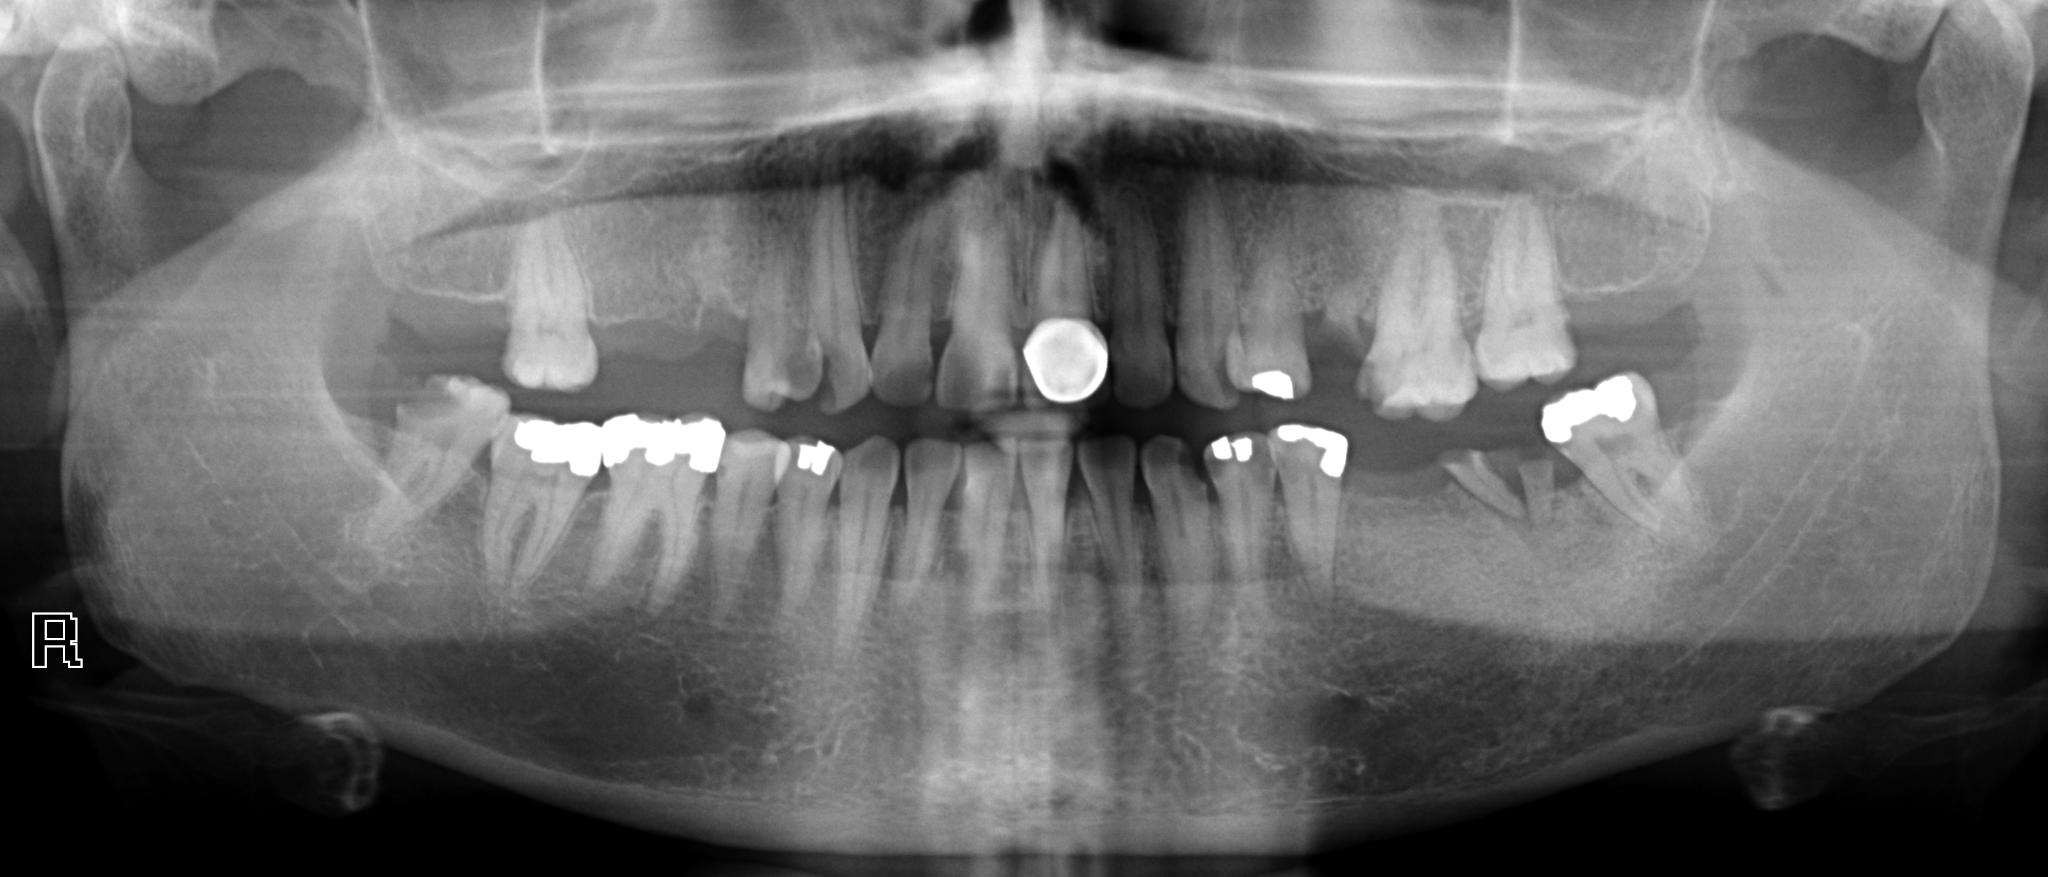Cavity: (358, 372, 507, 544)
Fillings: (594, 410, 724, 603), (1539, 371, 1693, 527), (478, 412, 602, 582), (496, 218, 597, 396), (1019, 218, 1108, 409), (1199, 429, 1275, 620), (767, 430, 842, 620), (1230, 235, 1314, 404), (1272, 425, 1349, 603), (38, 612, 76, 670)
